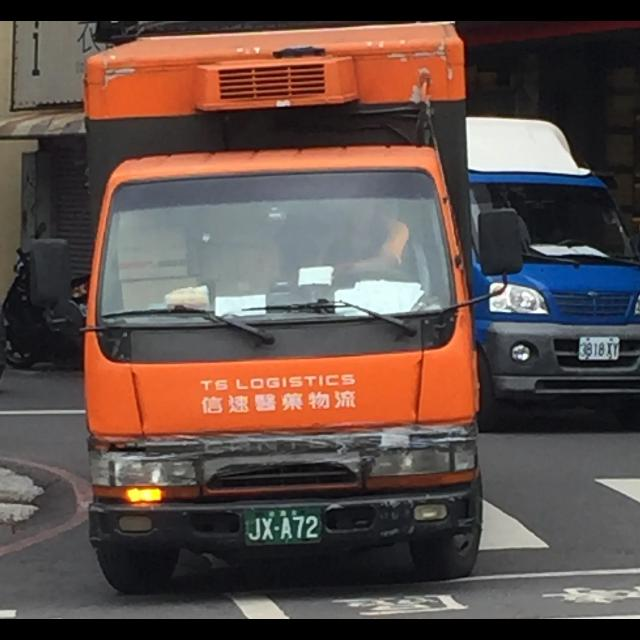plate: (245, 508, 322, 547)
